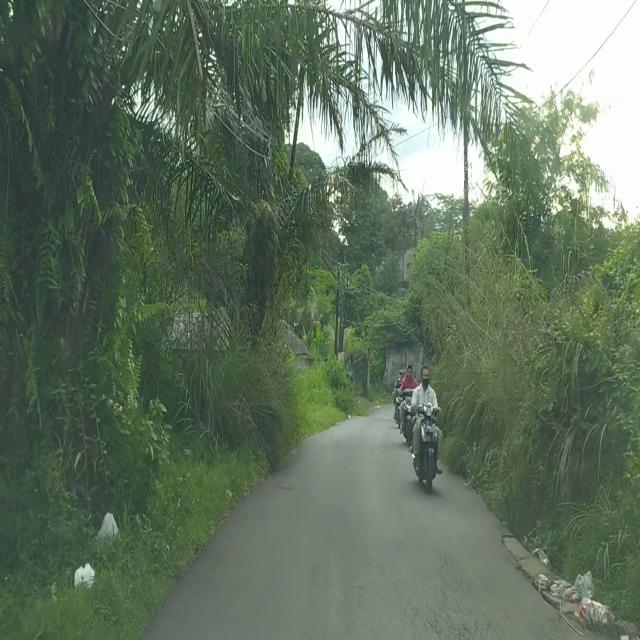Drain Hole: (410, 559, 499, 640)
